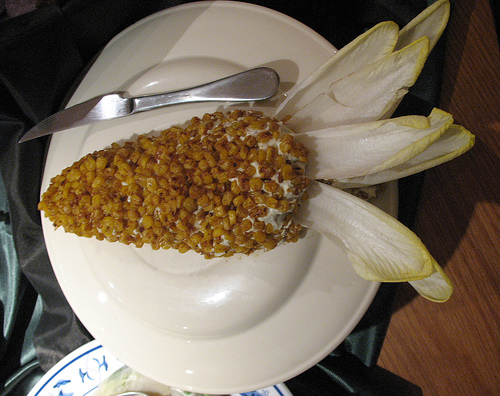corn: (40, 103, 313, 258)
